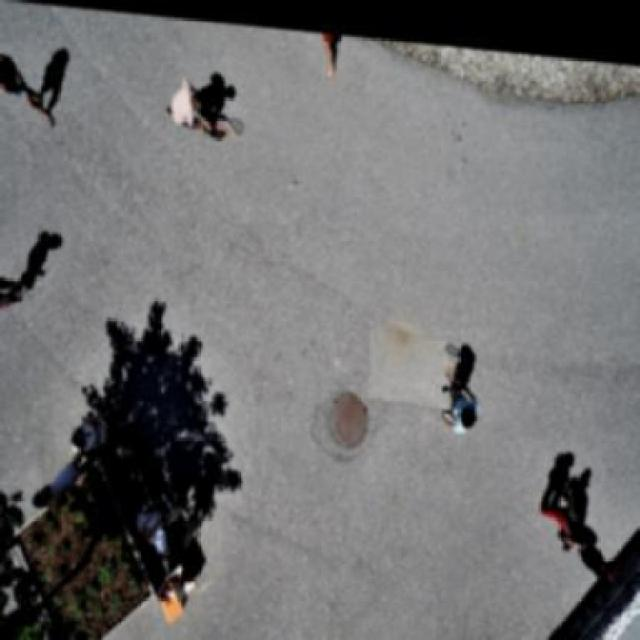Person: (0, 41, 65, 130), (160, 68, 226, 134), (537, 477, 595, 540), (436, 356, 481, 430), (577, 525, 621, 577)
